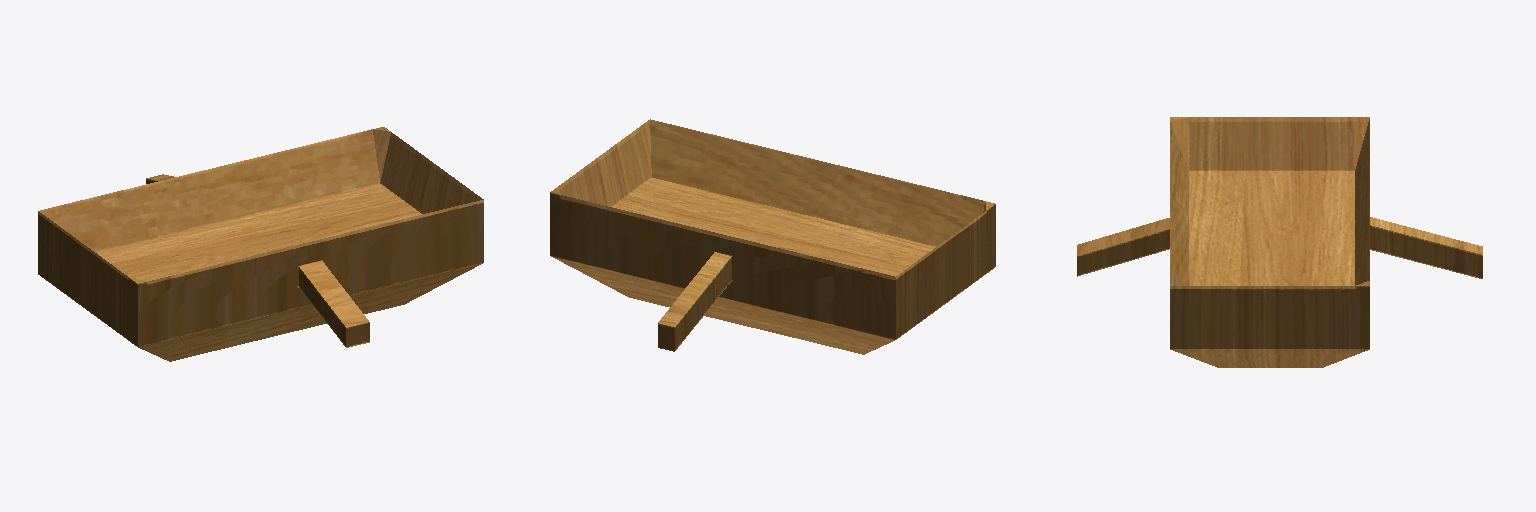
The picture shows the model from 3 angles: view 1: azimuth 30°, elevation 25°; view 2: azimuth 150°, elevation 25°; view 3: azimuth 270°, elevation 25°; orthographic projection.
Visible parts, largest first — view 1: Object.1; view 2: Object.1; view 3: Object.1.
Boxes of the visible parts, x1=… form: Object.1: x1=38, y1=127, x2=483, y2=361; Object.1: x1=550, y1=119, x2=995, y2=354; Object.1: x1=1077, y1=117, x2=1482, y2=367.
Bounding box in the file's own units: 4 × 1.2 × 4.08.
Materials: 1 (1 with a texture image).